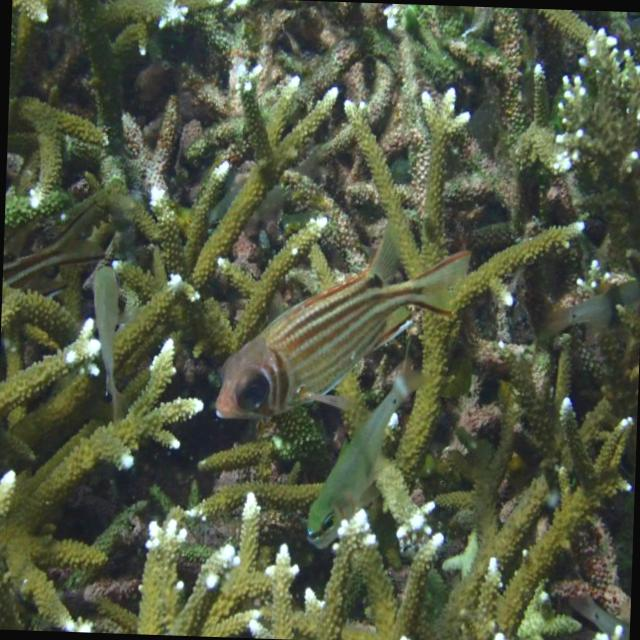Asker Baligi: (209, 224, 472, 431)
